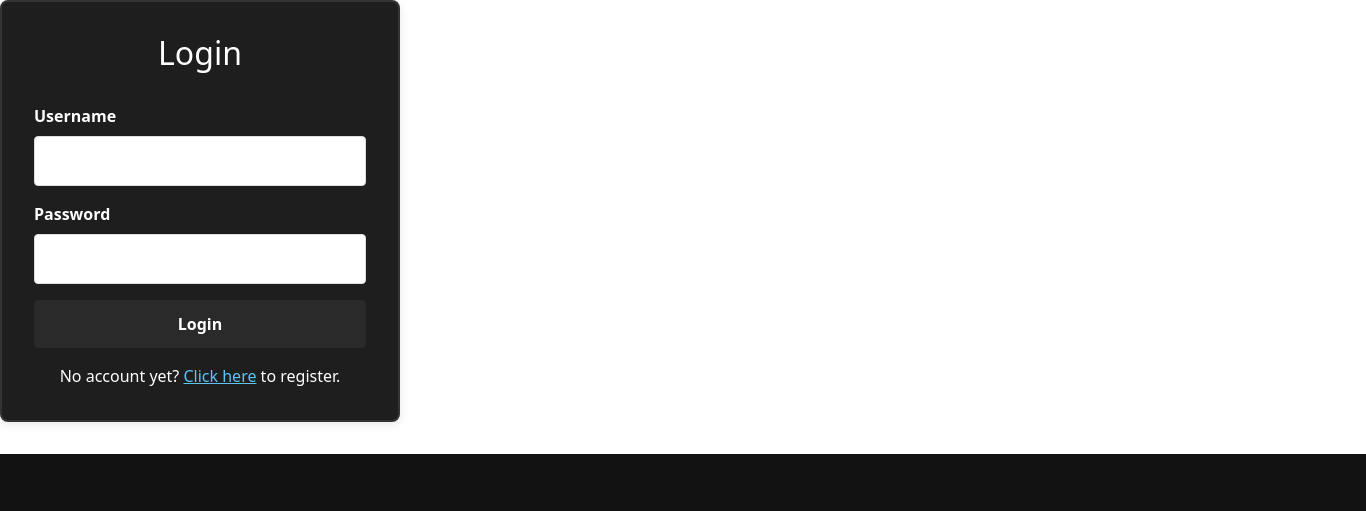
Test case: LoginForm › handles API error correctly
# Fill in form
Type "testuser" into the field labelled "Username" at (200, 161), box [34,136,366,186]
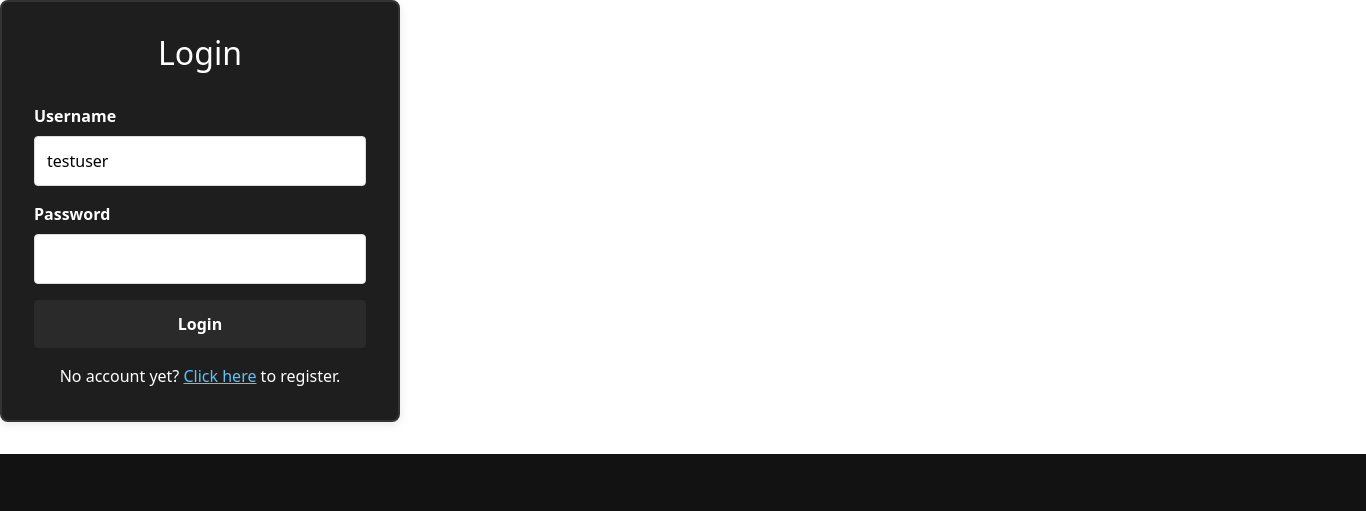
Type "wrongpass" into the password field labelled "Password" at (200, 259), box [34,234,366,284]
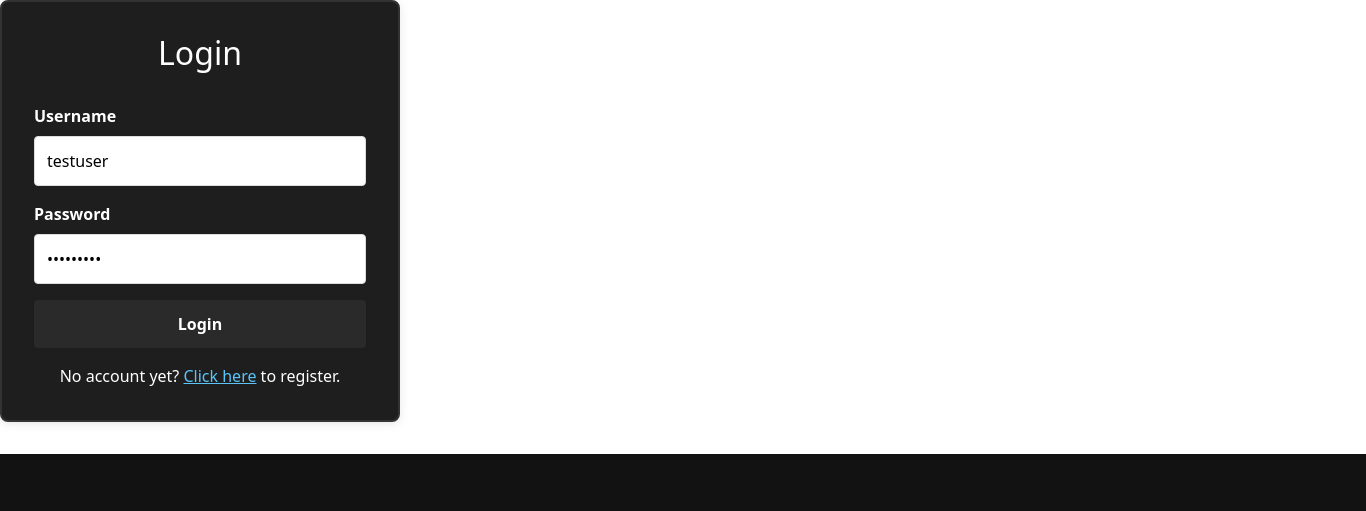
# Submit form
Click the button "Login" at (200, 324), box [34,300,366,348]
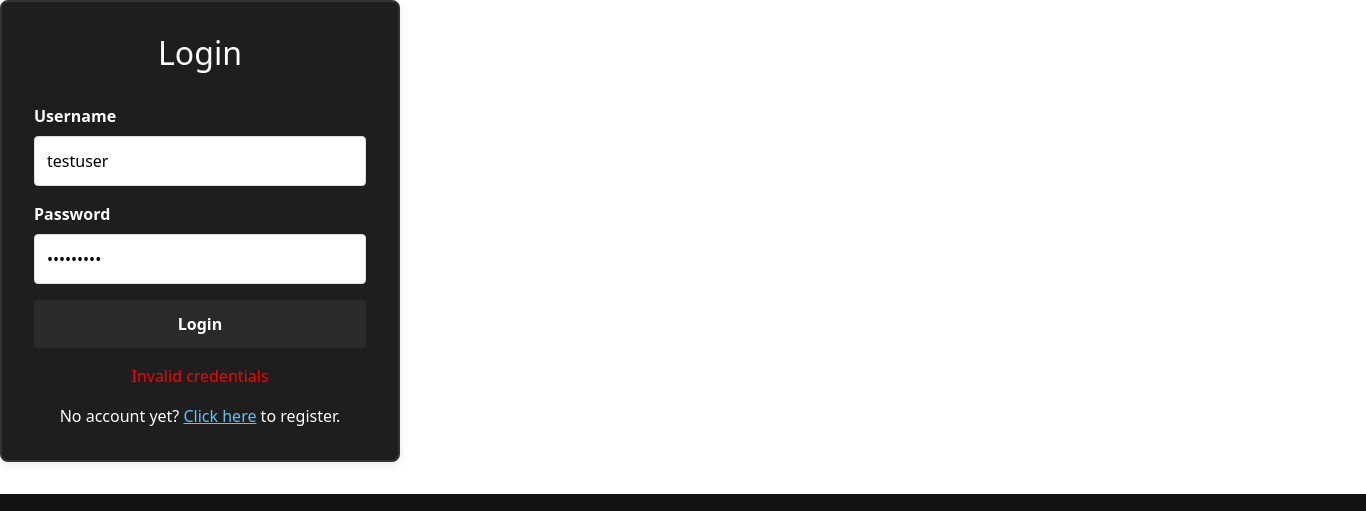
Check: the text "Invalid credentials" is shown, box [132,365,269,387]
